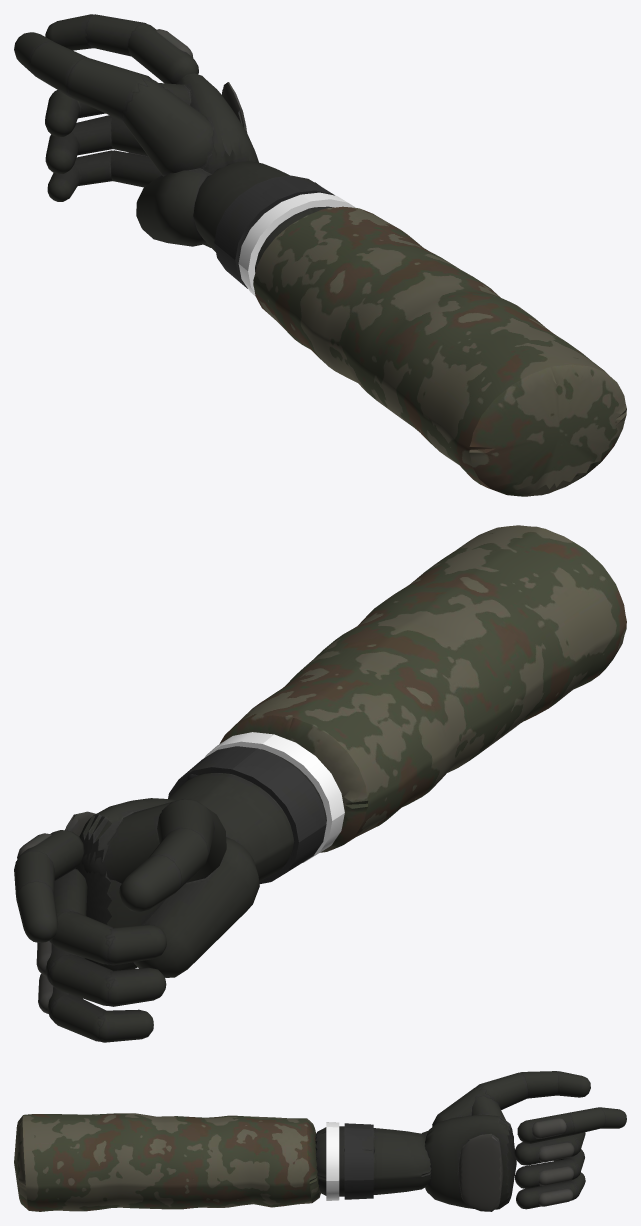
Rendered from arms.glb.
3 views of the same model, one above another, from view 1: azimuth 30°, elevation 25°; view 2: azimuth 150°, elevation 25°; view 3: azimuth 270°, elevation 25° (orthographic). The views are drawn at different scales.
Visible parts, largest first — view 1: forearm, hand, band; view 2: forearm, hand, band; view 3: forearm, hand, band.
Part boxes in pixels (x1,y1,x2,y2): forearm: [193, 161, 626, 496]; hand: [14, 14, 258, 247]; band: [238, 192, 355, 296]; forearm: [168, 525, 626, 883]; hand: [14, 798, 259, 1042]; band: [204, 732, 344, 862]; forearm: [14, 1113, 431, 1211]; hand: [422, 1071, 626, 1211]; band: [326, 1122, 339, 1200].
Bounding box in the file's own units: 0.1005 × 0.0911 × 0.4645.
2 materials, 1 textured.
